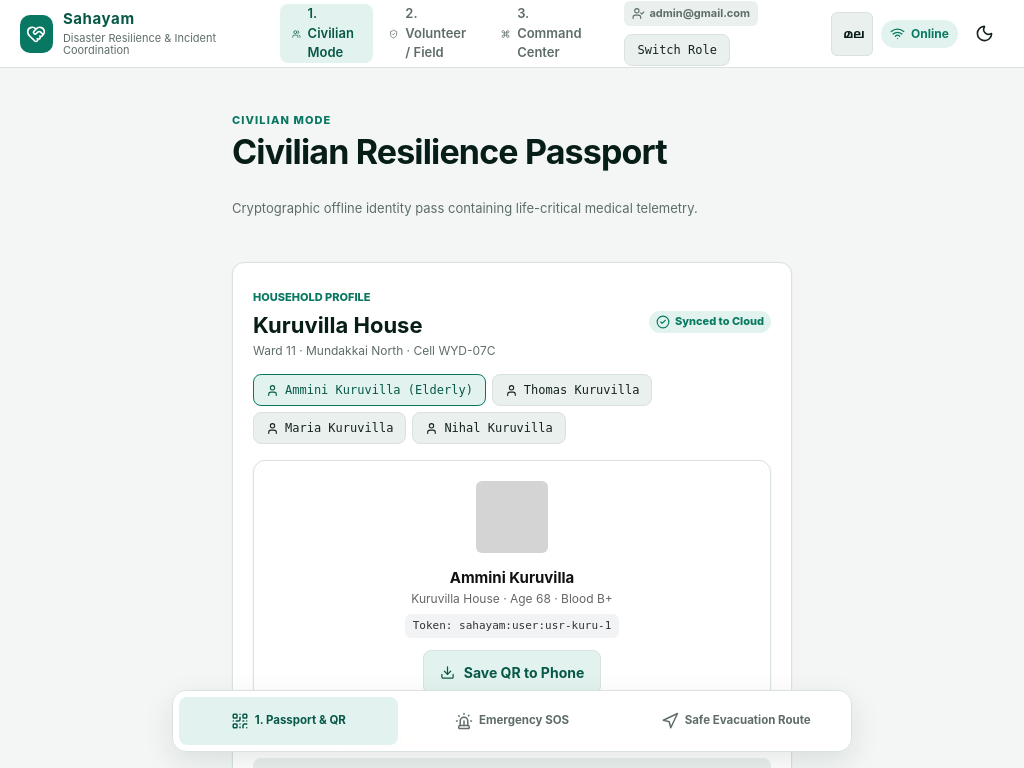
Test case: Sahayam routes › toggles language between English and Malayalam
Expected: the heading "Civilian Resilience Passport" is shown, [232, 130, 667, 172]
# Find language toggle button
Click the button titled "switch to malayalam" at point(852, 34), box [831, 12, 873, 56]
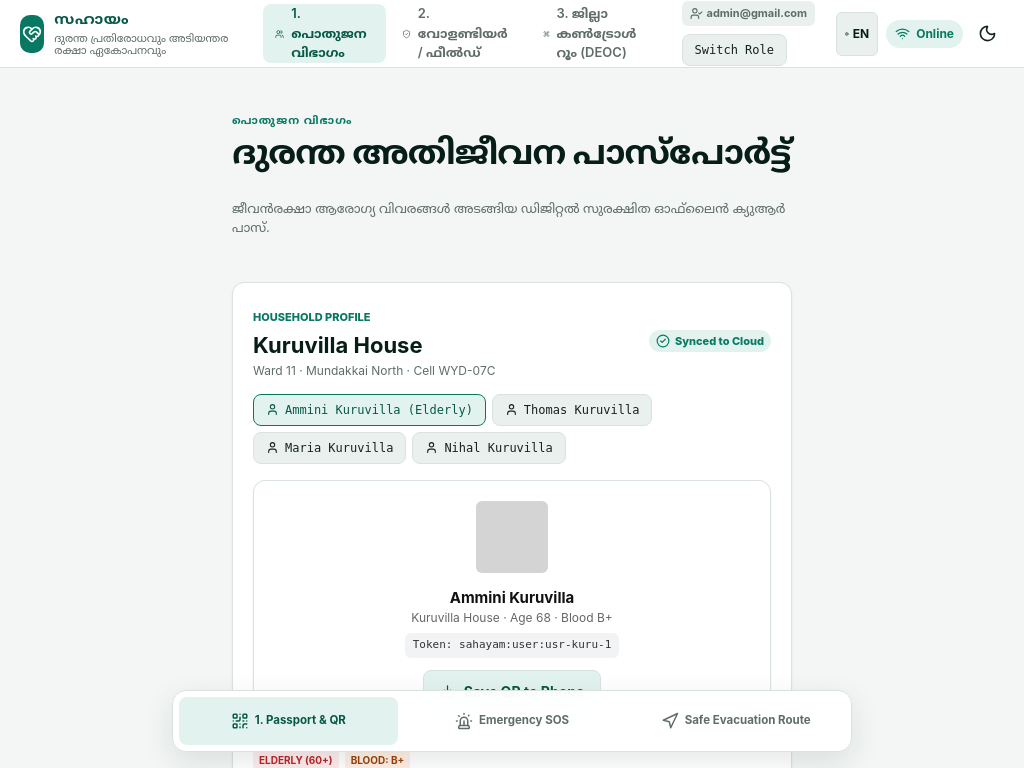
Expected: the heading "ദുരന്ത അതിജീവന പാസ്പോർട്ട്" is shown, [232, 132, 792, 171]
